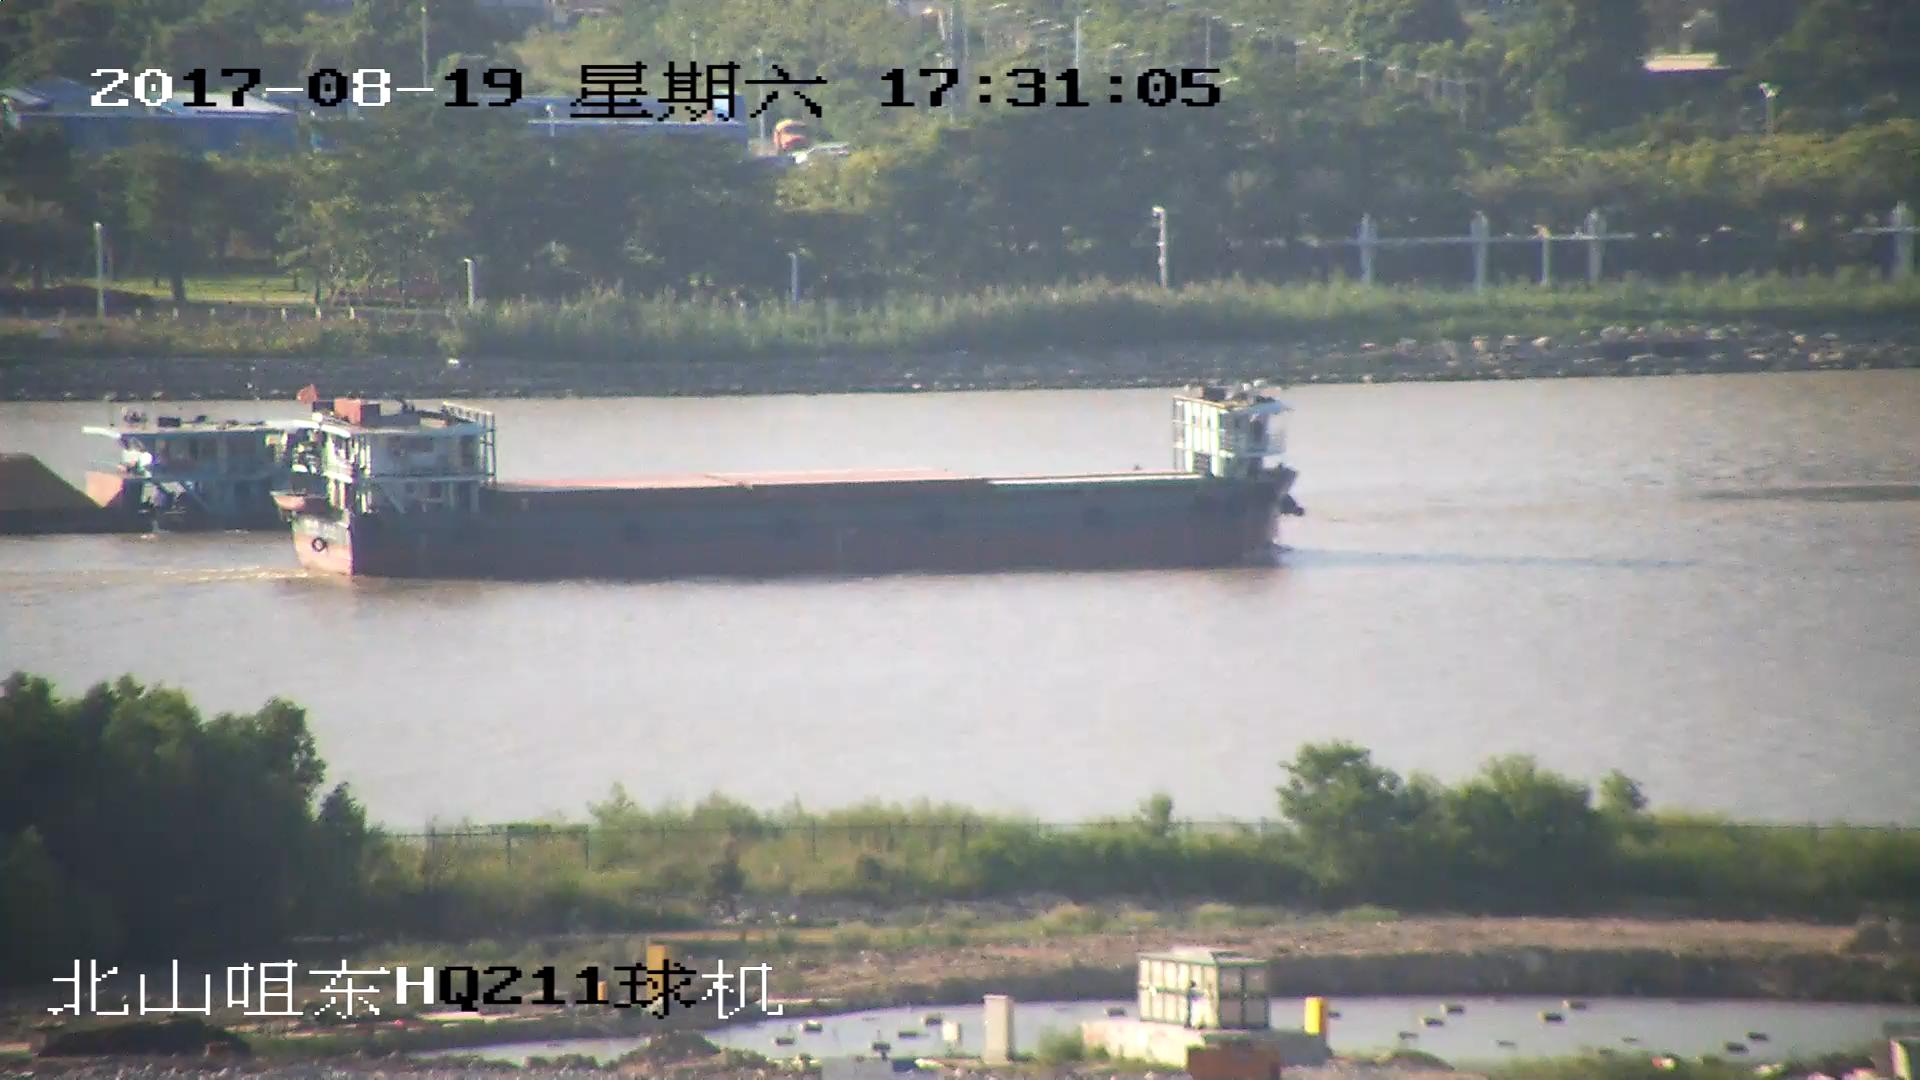general cargo ship: (279, 389, 1305, 581)
ore carrier: (1, 417, 274, 535)
